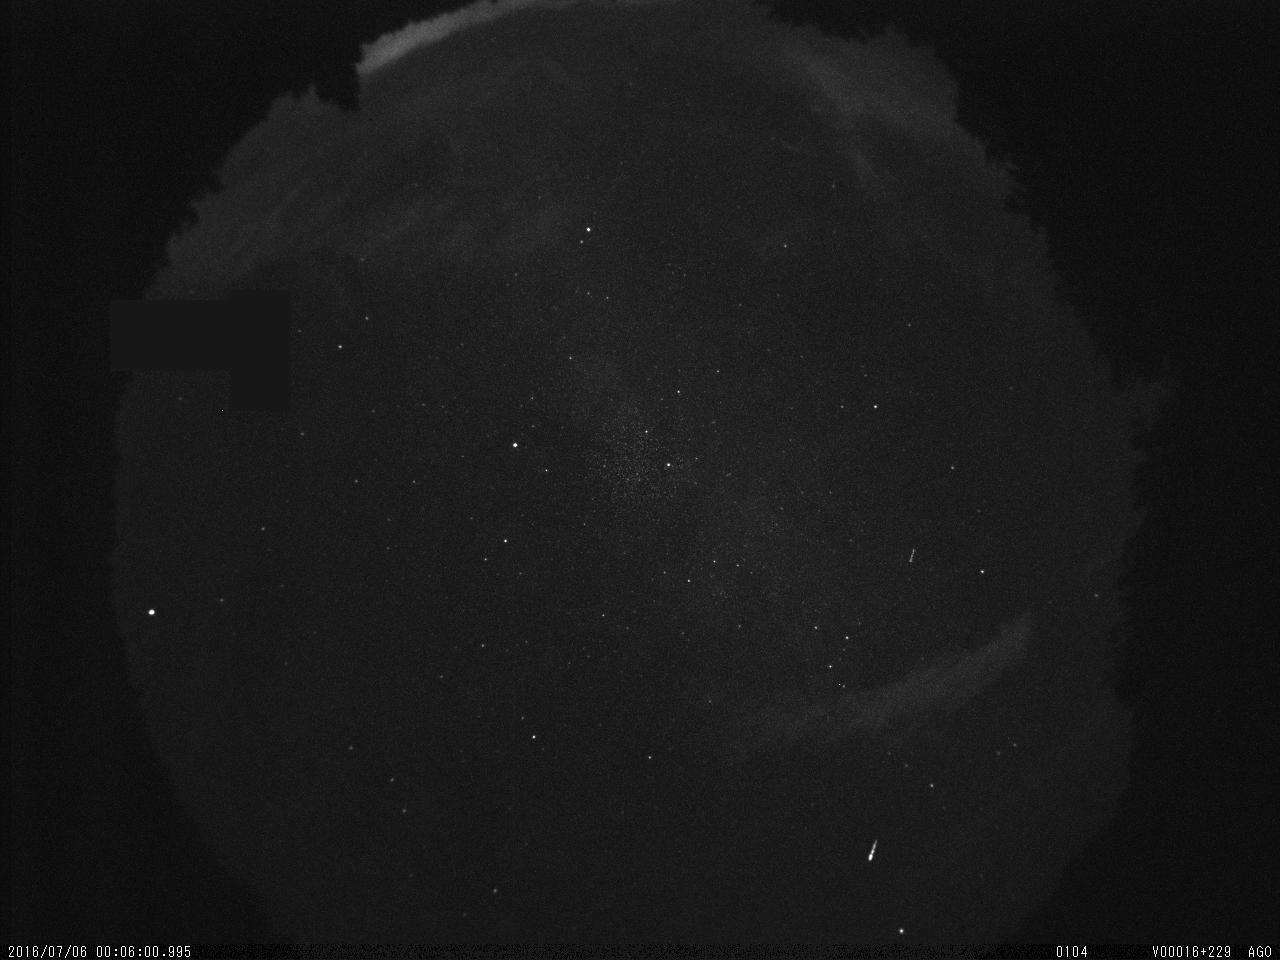meteor: (862, 830, 888, 868)
